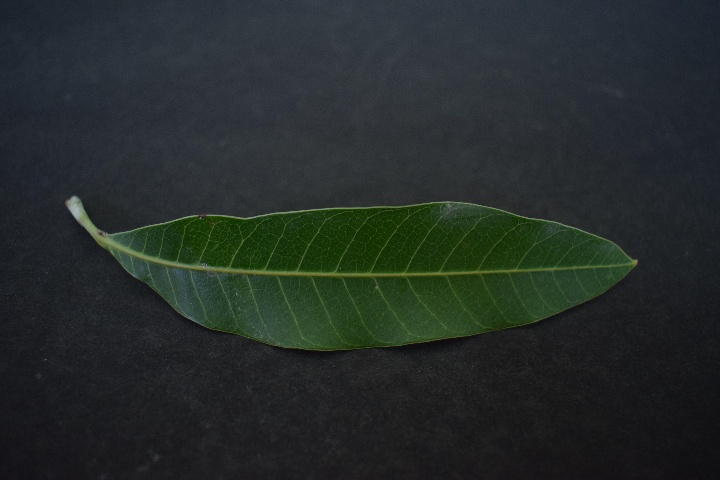healthy: (74, 190, 649, 356)
